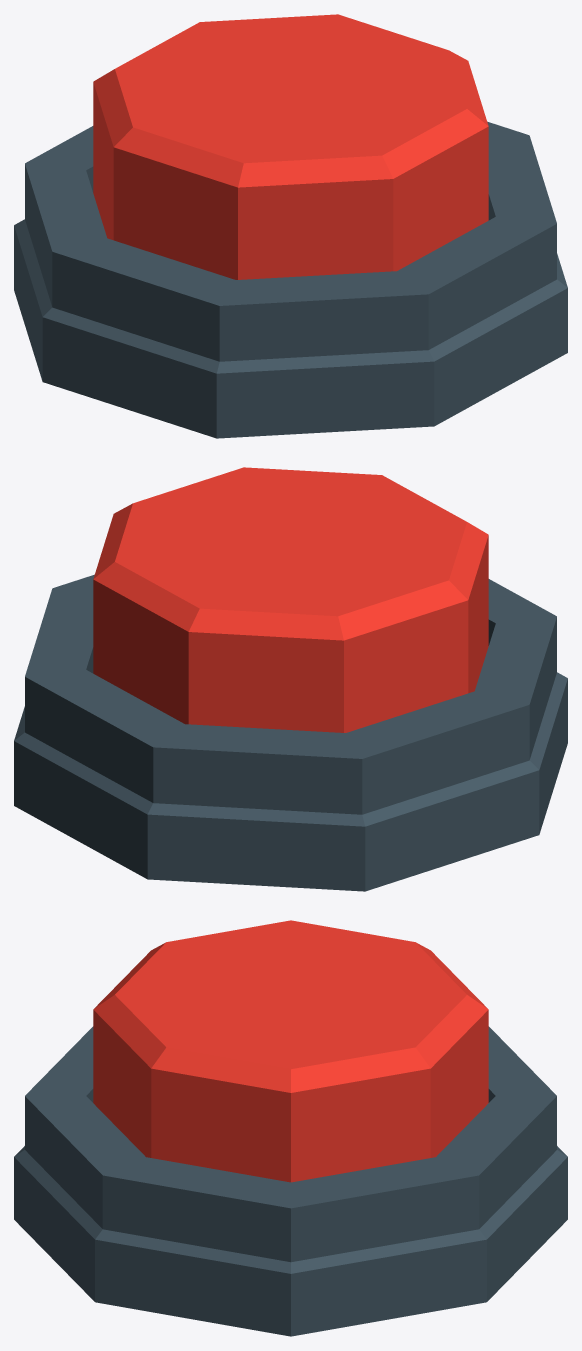
Rendered from Button.glb.
3 renders of one model, top to bottom at view 1: azimuth 30°, elevation 25°; view 2: azimuth 150°, elevation 25°; view 3: azimuth 270°, elevation 25°, orthographic. The views are drawn at different scales.
Visible parts, largest first — view 1: Button_Circle; view 2: Button_Circle; view 3: Button_Circle.
Part boxes in pixels (bbox=[...]): Button_Circle: bbox=[14, 14, 567, 438]; Button_Circle: bbox=[14, 467, 567, 891]; Button_Circle: bbox=[14, 920, 567, 1336].
Bounding box in the file's own units: 9.97 × 4.46 × 9.97.
